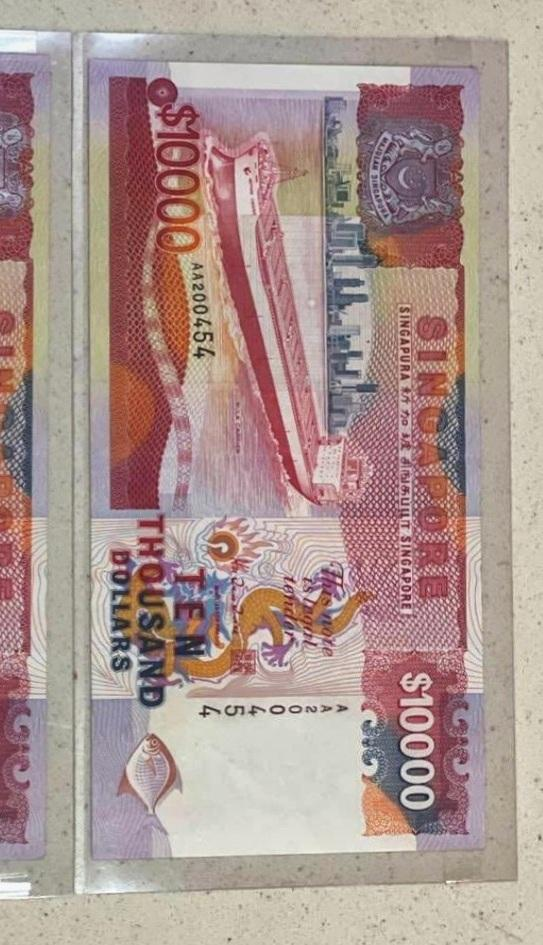10000SingaporeDollar: (88, 68, 478, 846)
